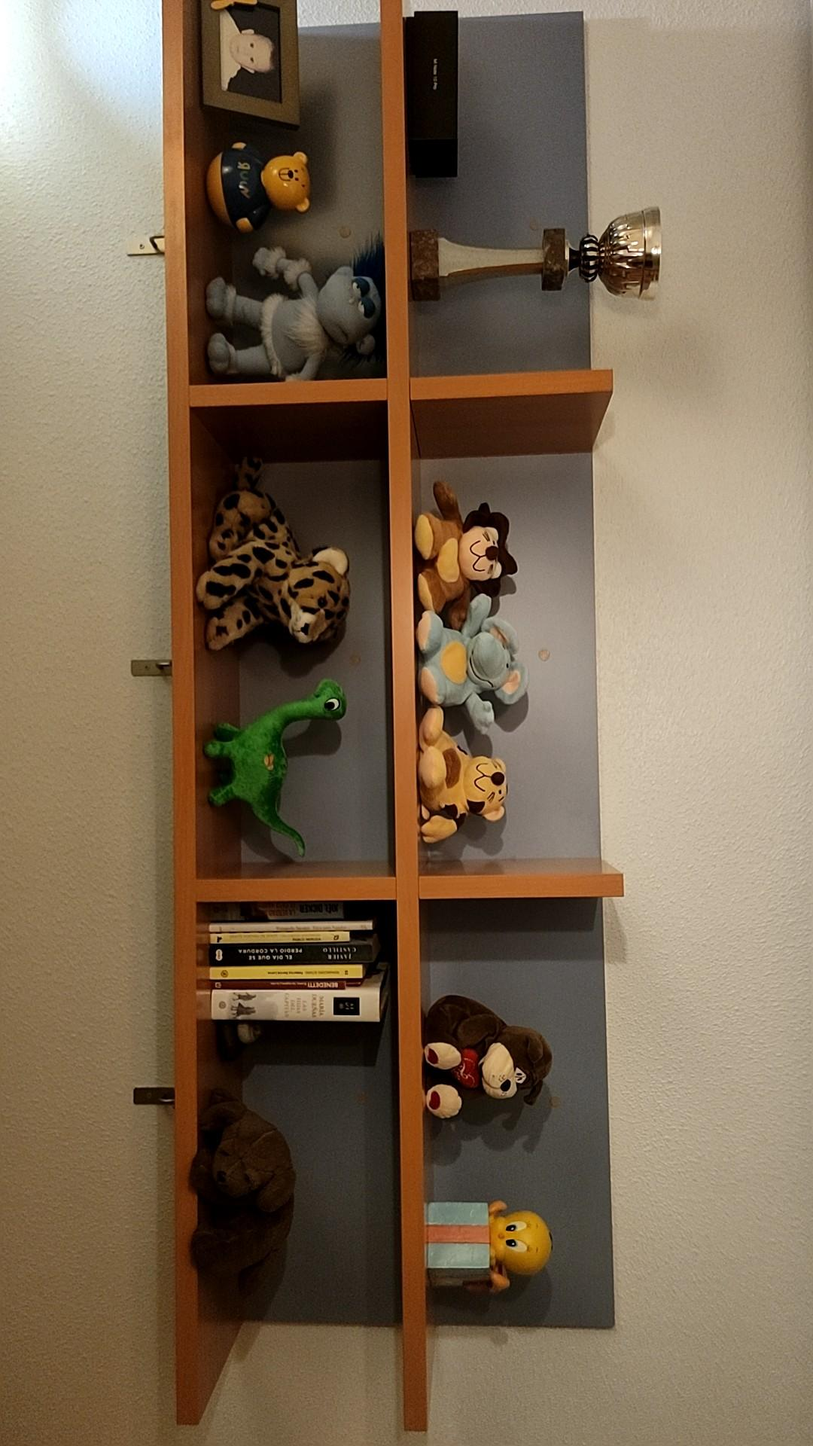book: (209, 905, 388, 1022)
toy: (414, 482, 526, 843), (196, 462, 349, 651), (206, 242, 384, 381), (205, 681, 346, 856), (423, 995, 551, 1119), (427, 1201, 551, 1291), (211, 143, 309, 232)
